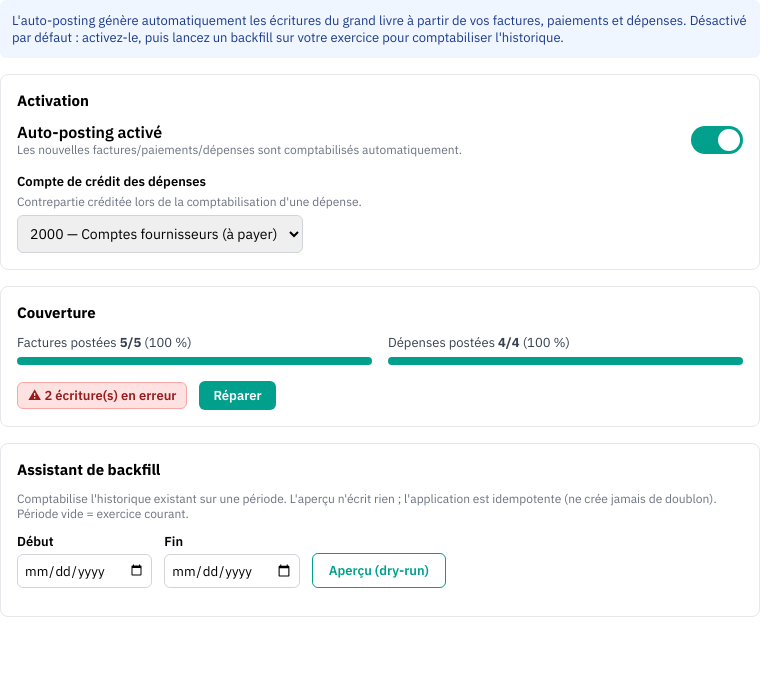
it: AutopostTab — réparation › badge erreurs + bouton Réparer → POST /repair + message succès
Click the button "Réparer": (238, 396) [199,381,276,410]
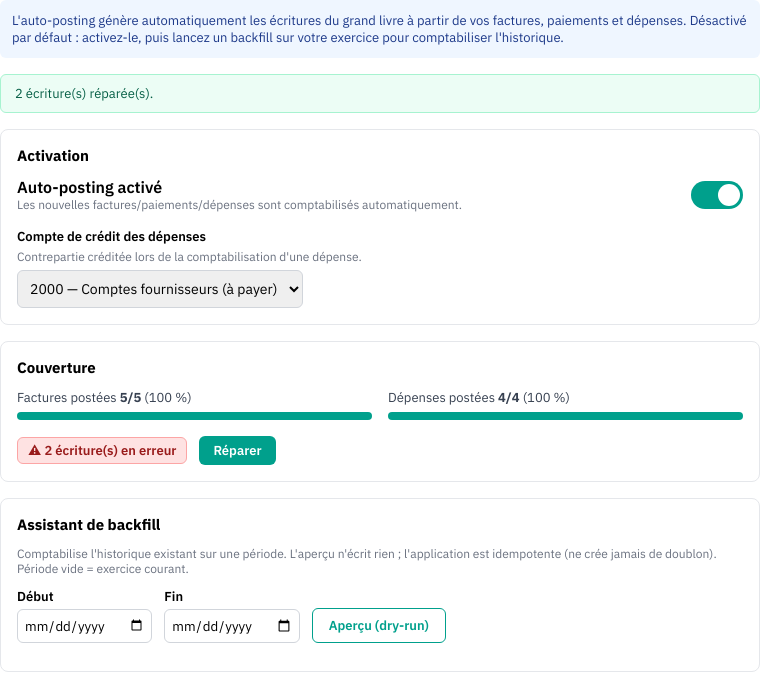
Check: the text "2 écriture(s) réparée(s)" is shown, box [15,85,153,102]
